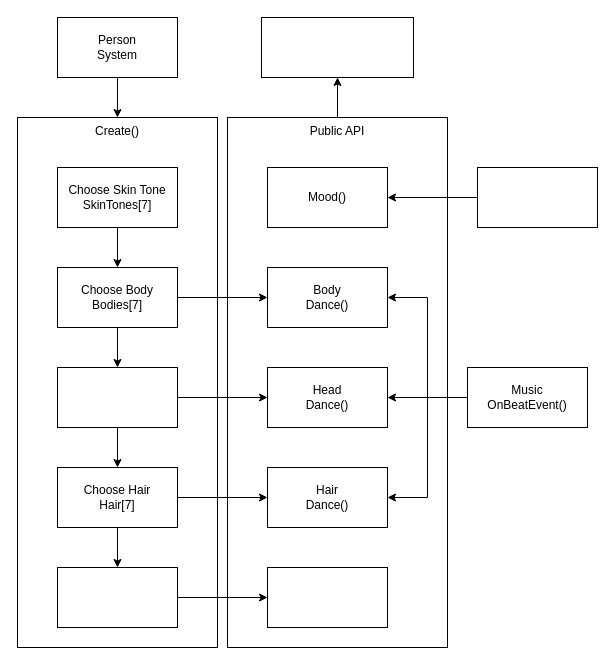
Some shapes in this 615 by 665 pixel diagram are drawn without their labels. Each missing label, with the box of its shape:
Choose Head Heads[7]: (56, 366, 178, 428)
Face Mood(): (266, 566, 388, 628)
Load Neutral Face: (56, 566, 178, 628)
Music OnMoodEvent(): (476, 166, 598, 228)
Person OnMoodChangeEvent(): (260, 16, 414, 78)
